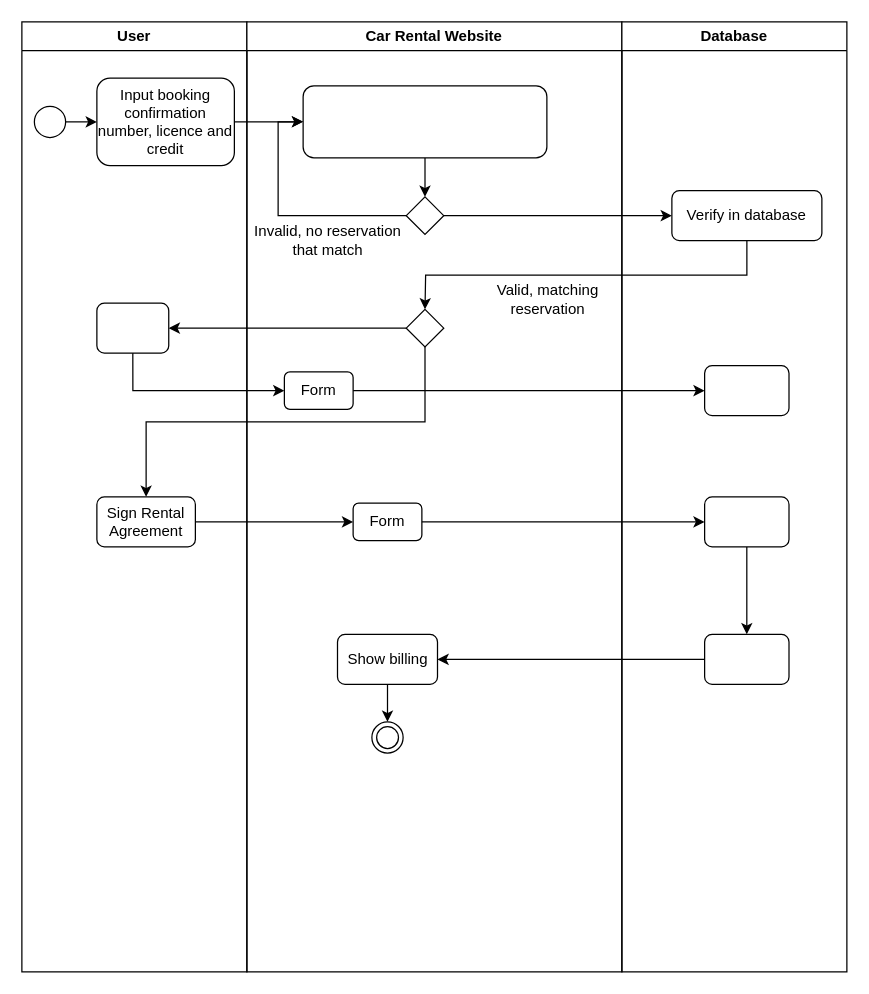
The diagram is 869 pixels wide and 994 high, and some of its shapes have lost their labels. Here are the shapes that lost their labels. From the top down, the centre of each, then its label:
At (424,121): "Forms asking for license, credit, and confirmation number".
At (132,327): "Report Issue".
At (746,390): "Send to database".
At (746,521): "Mark as rented".
At (746,658): "-500 credit card".
